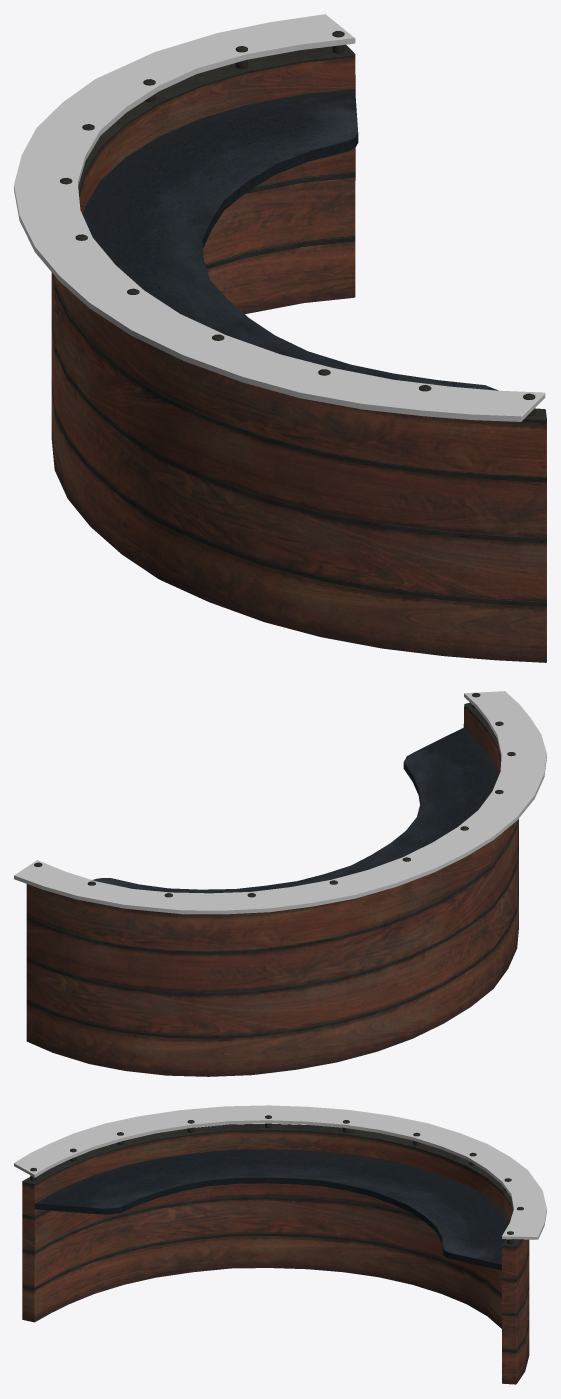
The model's file is desk_reception.dae.
3 renders of one model, top to bottom at view 1: azimuth 30°, elevation 25°; view 2: azimuth 150°, elevation 25°; view 3: azimuth 270°, elevation 25°, orthographic. The views are drawn at different scales.
Parts seen in each view (by area): view 1: polySurface276, desk_reception_pCylinder2; view 2: polySurface276, desk_reception_pCylinder2; view 3: polySurface276, desk_reception_pCylinder2.
Part boxes in pixels (x1=…): polySurface276: x1=51, y1=31, x2=546, y2=662; desk_reception_pCylinder2: x1=14, y1=14, x2=545, y2=421; polySurface276: x1=26, y1=693, x2=518, y2=1076; desk_reception_pCylinder2: x1=14, y1=691, x2=546, y2=914; polySurface276: x1=22, y1=1115, x2=529, y2=1384; desk_reception_pCylinder2: x1=14, y1=1105, x2=546, y2=1239.
Bounding box in the file's own units: 277 × 146 × 475.
